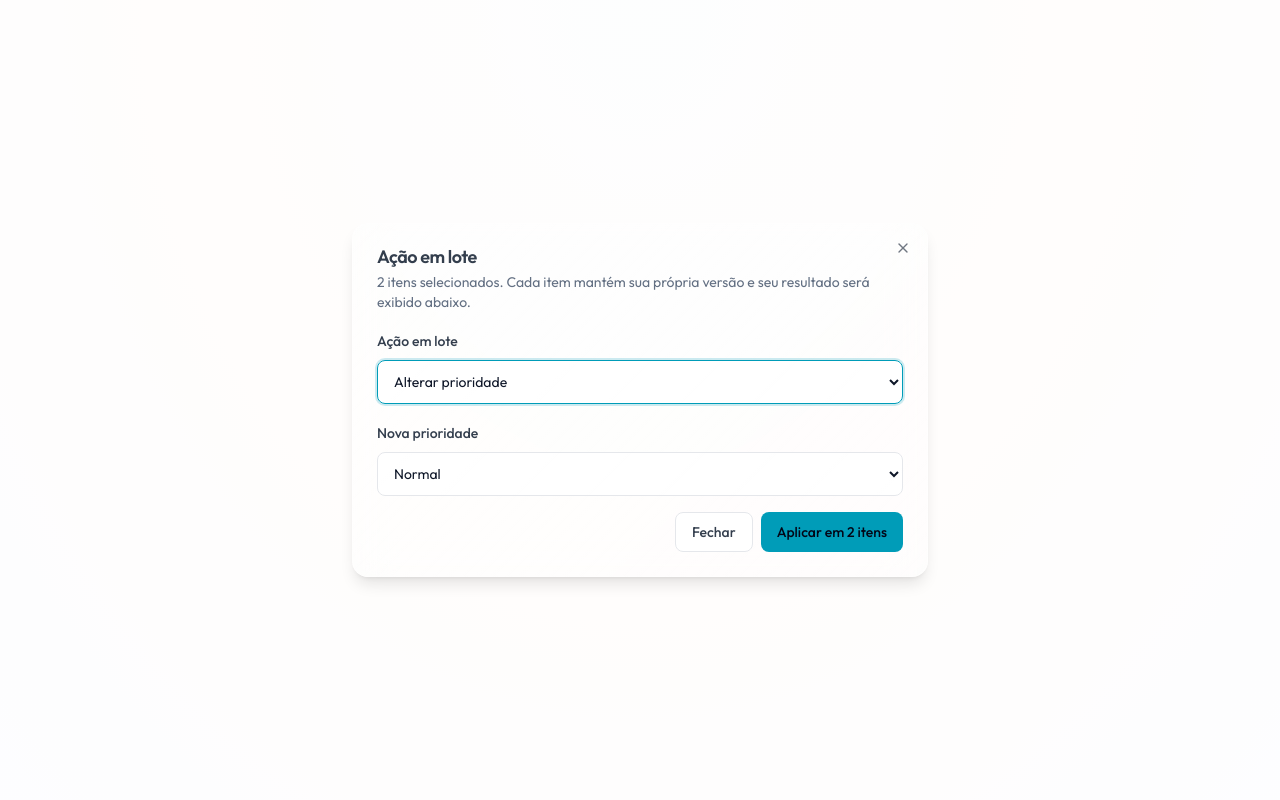
it: ProductionBatchDialog › submits observed versions and keeps partial failures explicit
expect the text "2 itens selecionados" is shown: met, box [377, 272, 903, 312]
Step 1. Select "Alterar prioridade" in the dropdown labelled "Ação em lote" → x=640, y=382, box [377, 360, 903, 404]
Step 2. Select "Urgente" in the dropdown labelled "Nova prioridade" → x=640, y=474, box [377, 452, 903, 496]
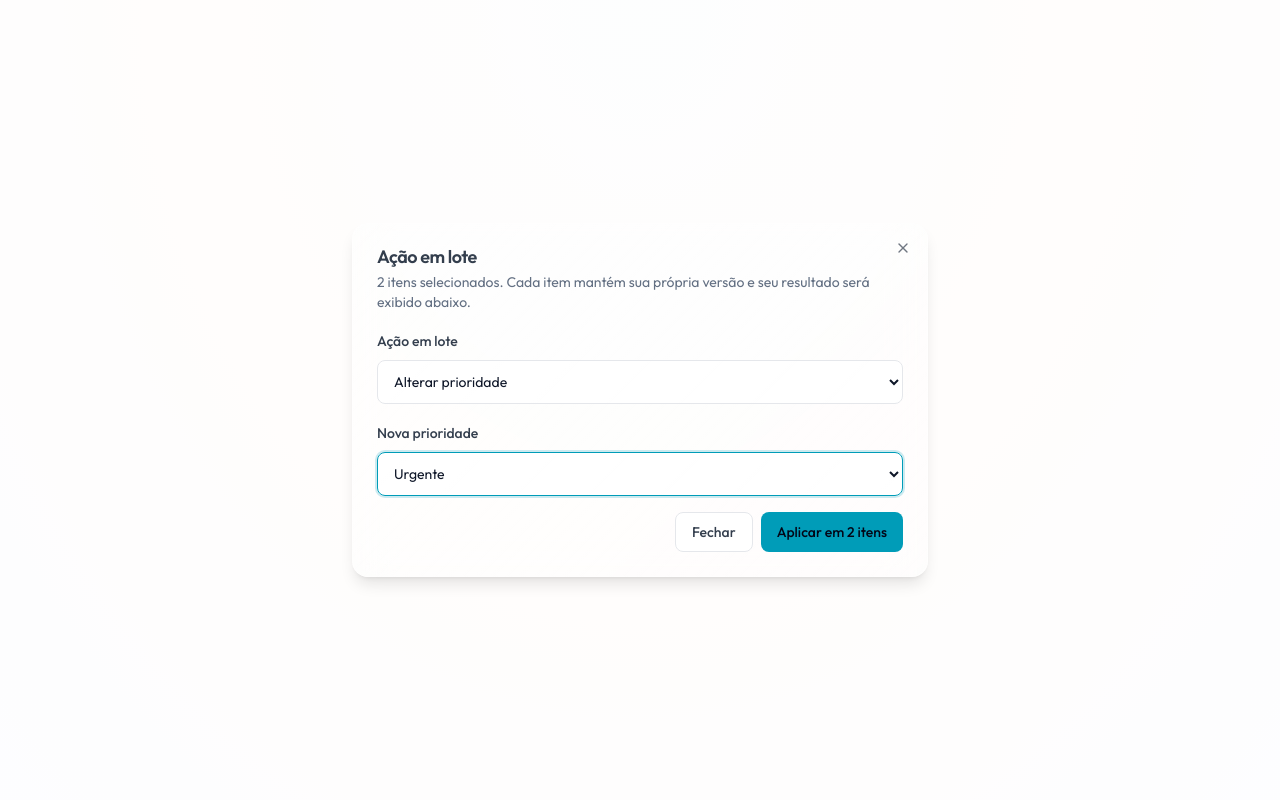
Step 3. Click the button "Aplicar em 2 itens" → x=832, y=532, box [761, 512, 903, 552]
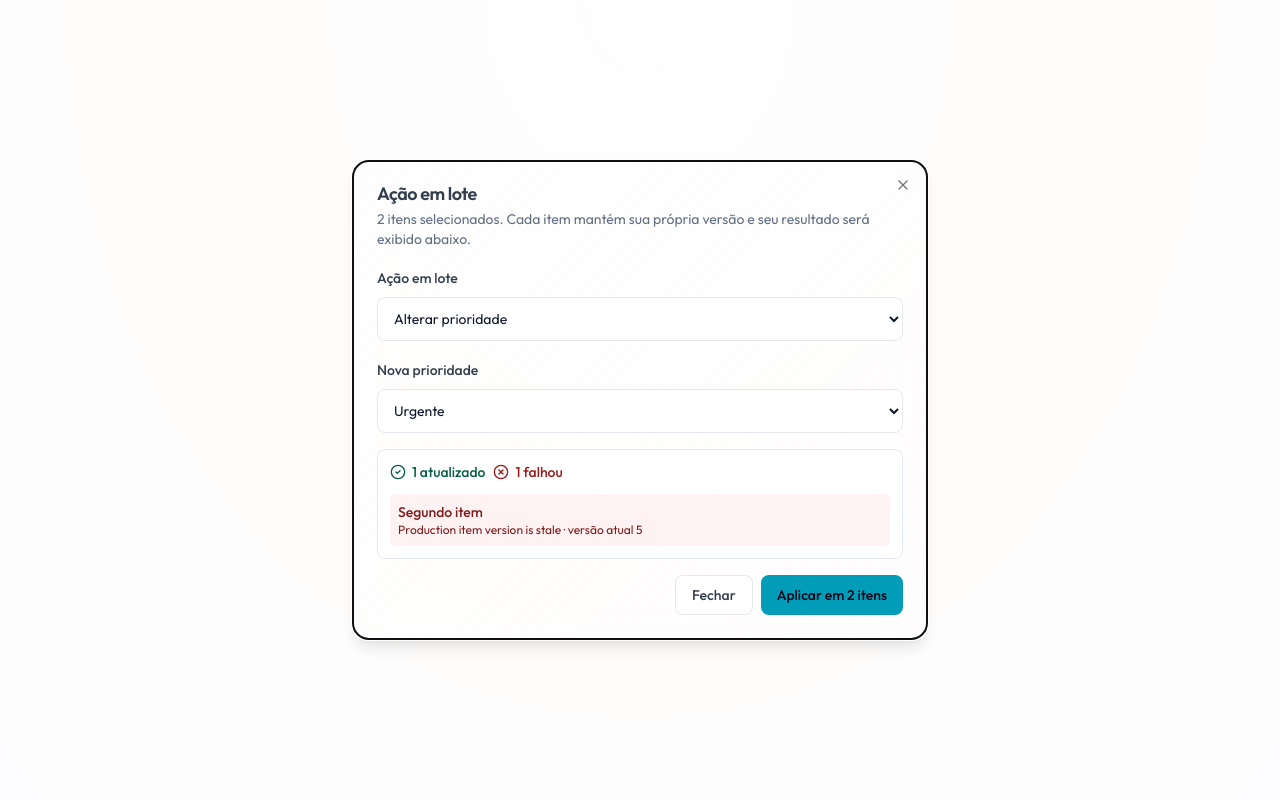
expect the text "1 atualizado" is shown: met, box [390, 462, 485, 482]
expect the text "1 falhou" is shown: met, box [493, 462, 563, 482]
expect the text "Production item version is stale · versão atual 5" is shown: met, box [398, 522, 642, 537]
